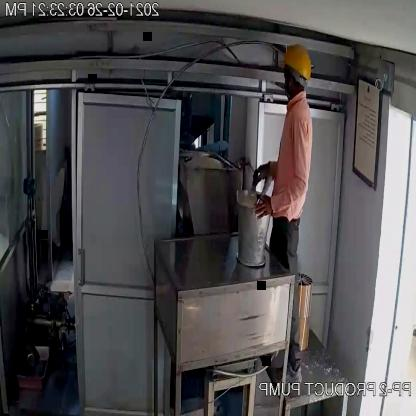helmet: (274, 40, 314, 84)
